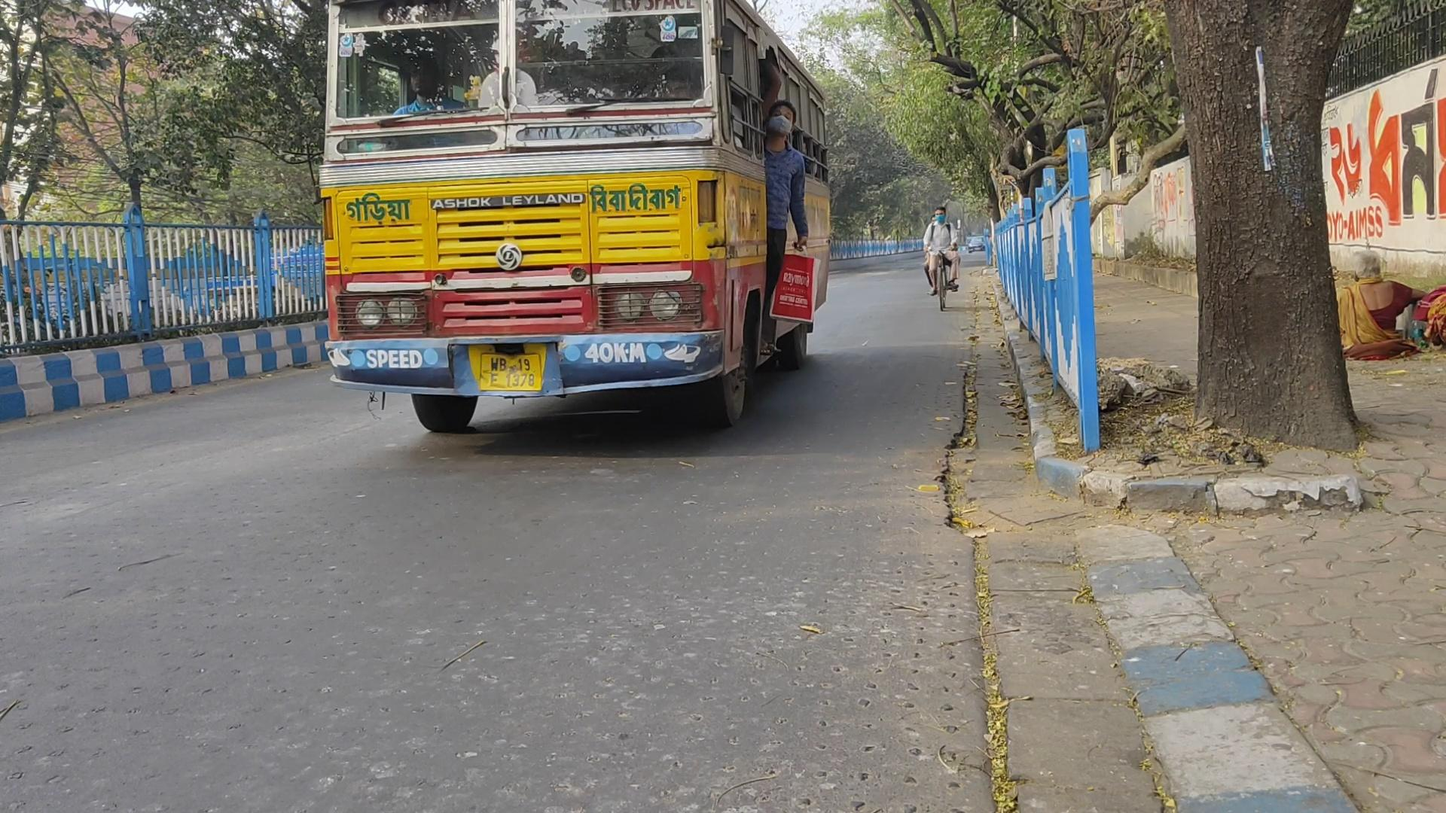Bus: (325, 4, 834, 433)
bike: (924, 206, 961, 311)
